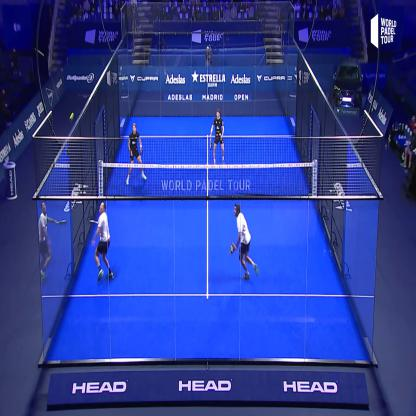ball: (65, 108, 76, 123)
